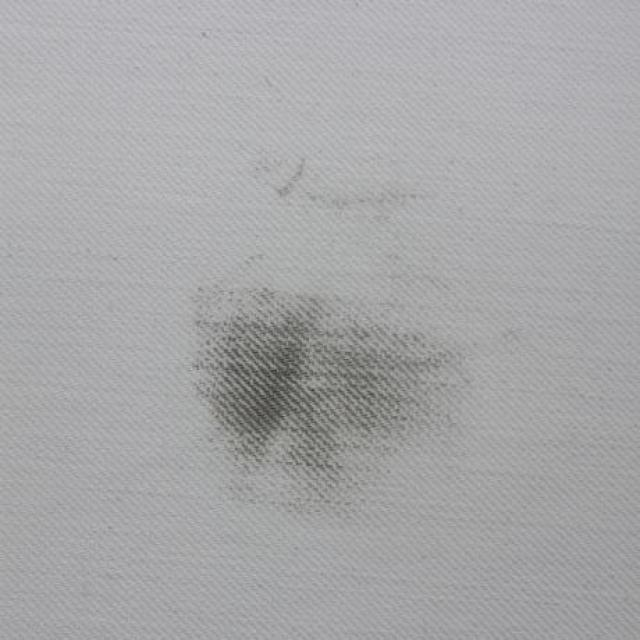Hole: (158, 255, 554, 564)
